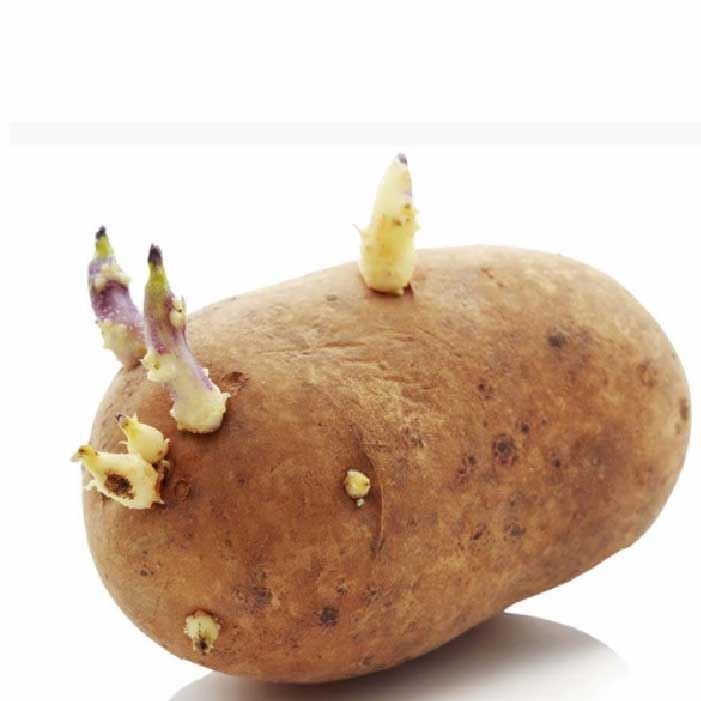Kartoffel: (82, 152, 692, 684)
